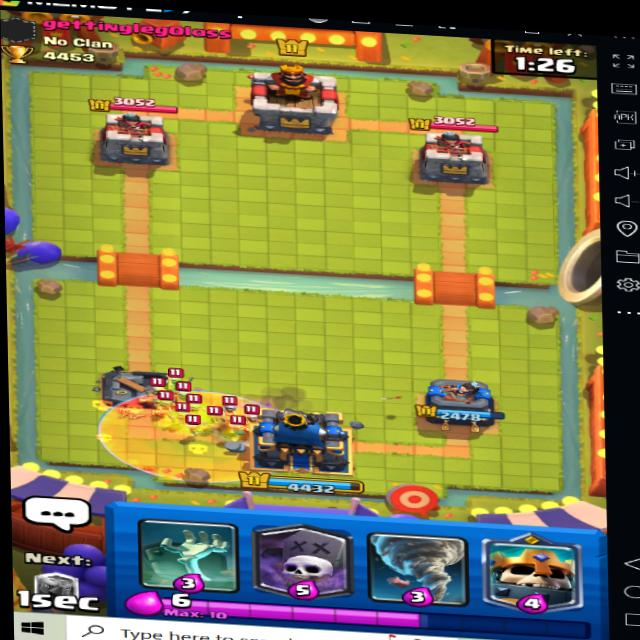skeleton: (143, 370, 169, 393), (220, 395, 247, 416), (223, 417, 252, 436), (182, 416, 208, 436), (160, 368, 188, 385), (244, 402, 263, 424)
